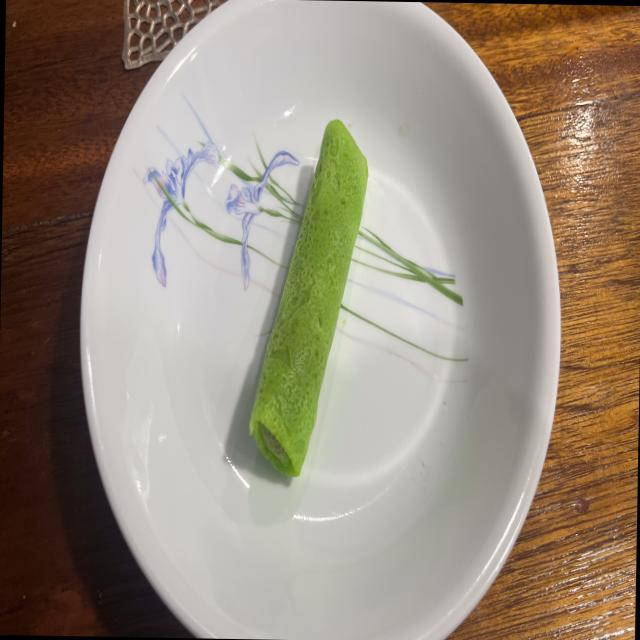Kuih-Ketayap: (249, 120, 368, 475)
